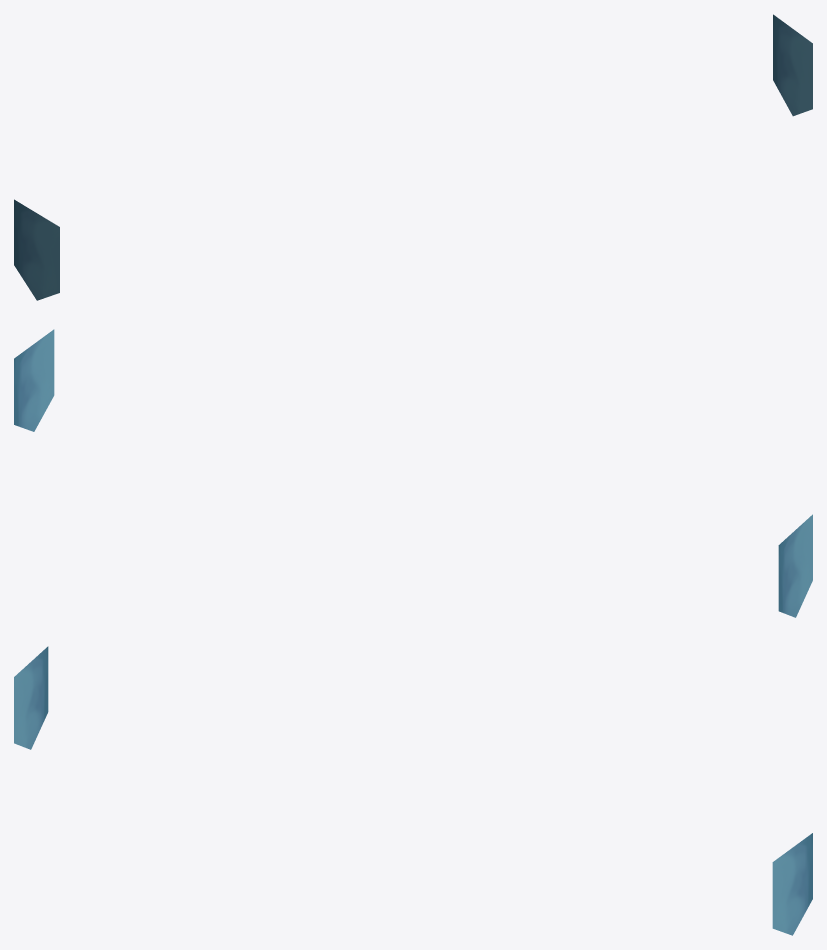
Rendered from 블루 안쪽깃발.FBX.
3 views of the same model, one above another, from view 1: azimuth 30°, elevation 25°; view 2: azimuth 150°, elevation 25°; view 3: azimuth 330°, elevation 25° (orthographic).
Visible parts, largest first — view 1: Object013; view 2: Object013; view 3: Object013.
Boxes of the visible parts, x1,y1,x2,y2 form: Object013: (14,14,812,300); Object013: (14,329,812,617); Object013: (14,646,812,935).
Bounding box in the file's own units: 684 × 75.41 × 62.62.
Materials: 1 (1 with a texture image).
